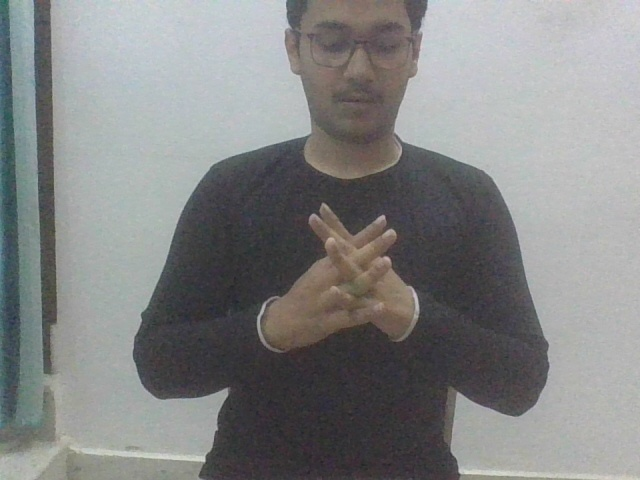W: (267, 201, 421, 349)
